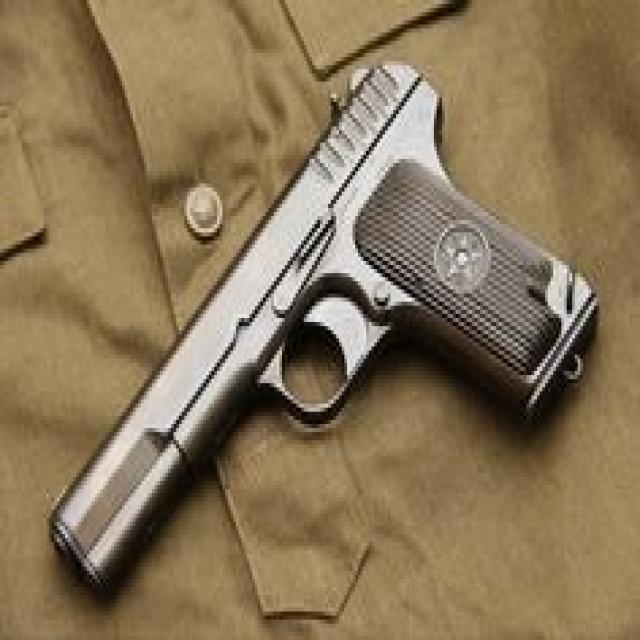semi automatic: (48, 49, 606, 626)
